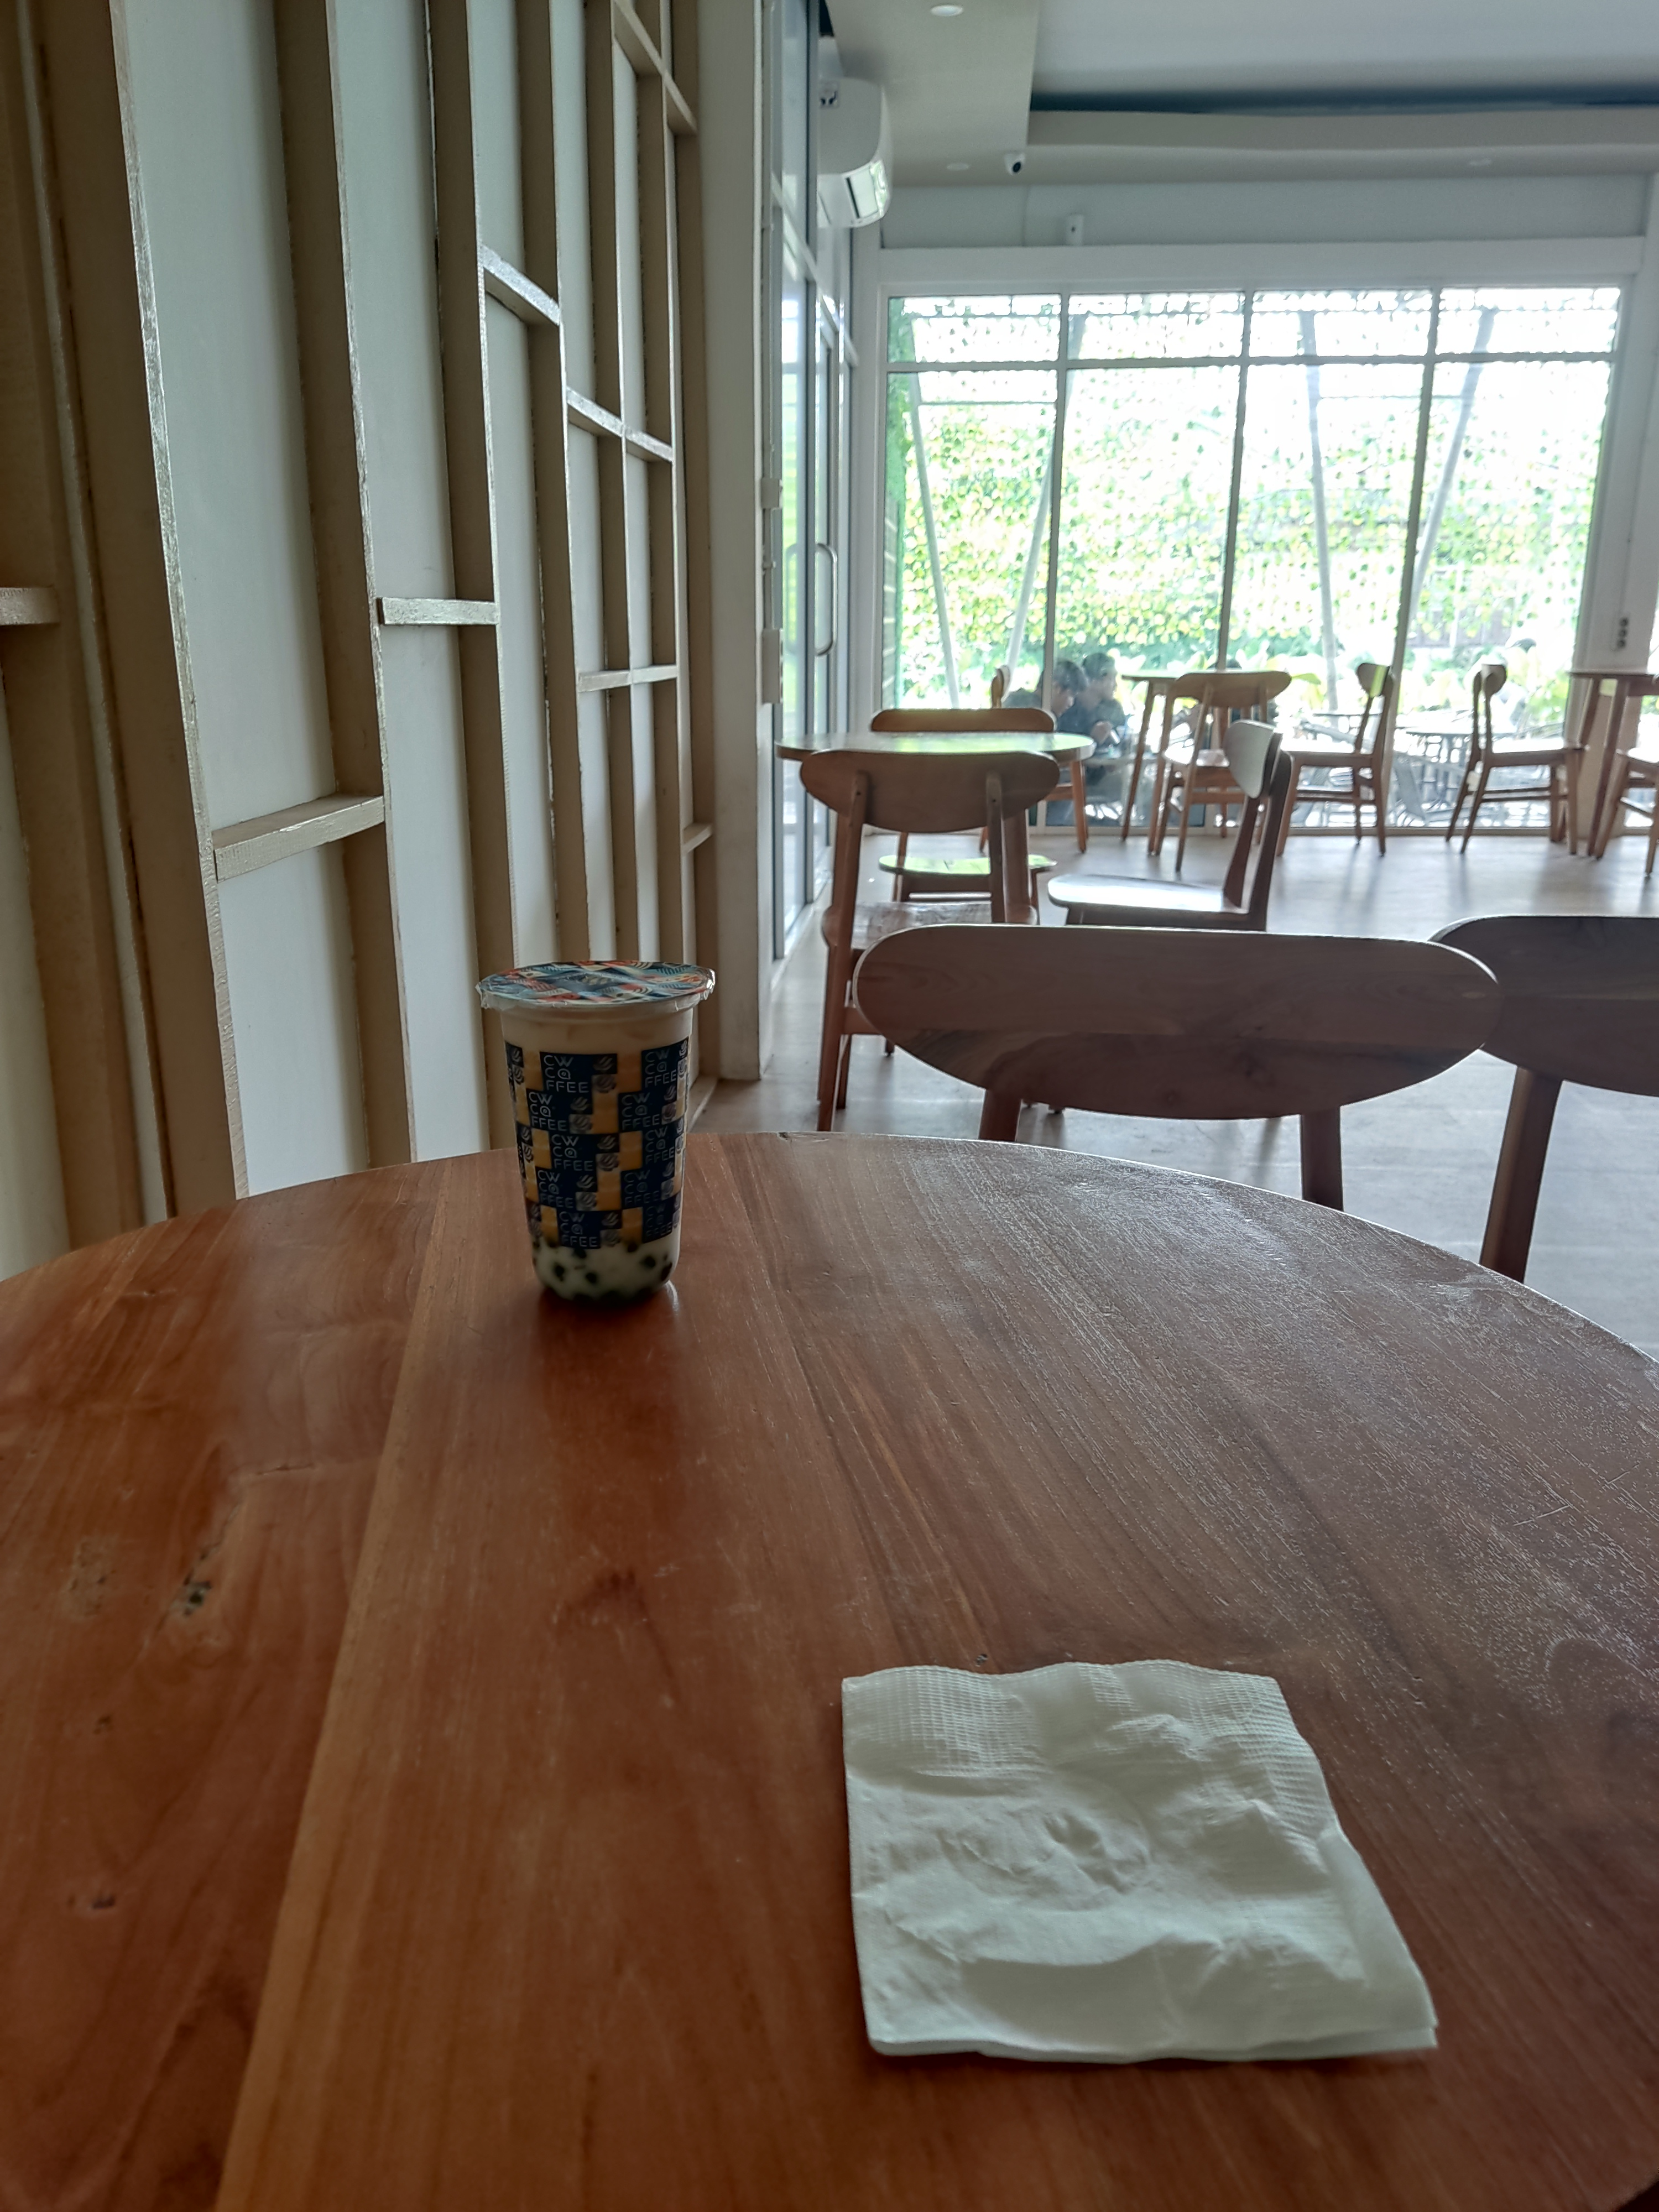Gelas CW: (471, 965, 727, 1310)
